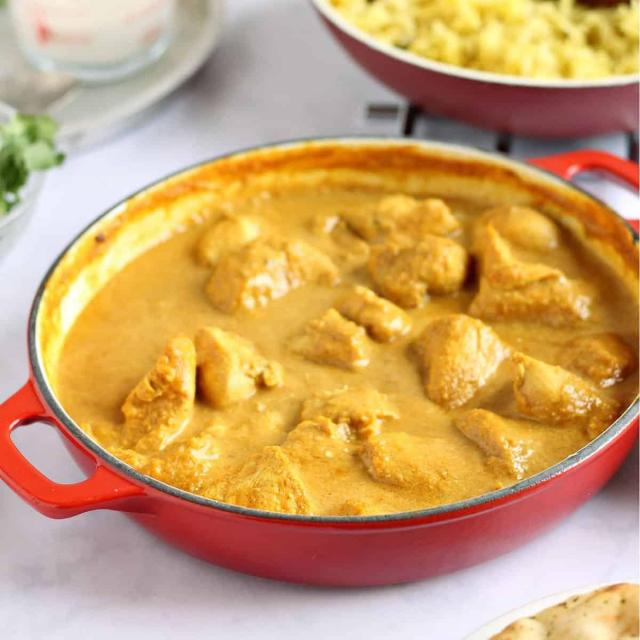chicken: (57, 129, 640, 513)
